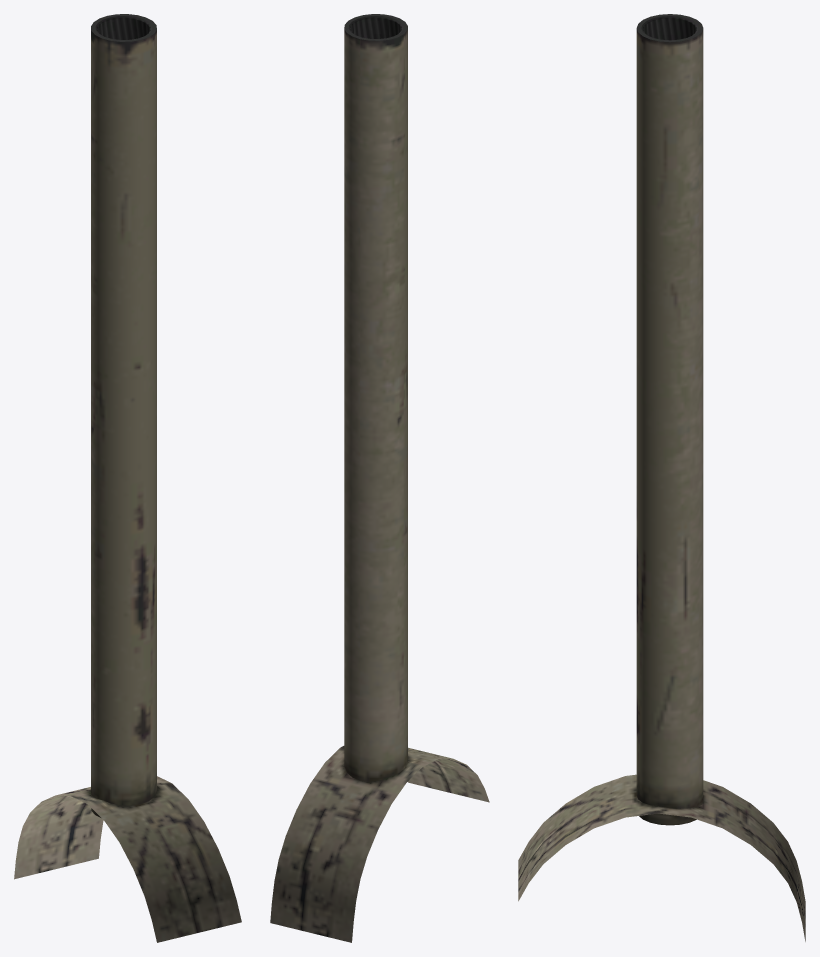
The model's file is Gun_02.glb.
3 views of the same model, side by side, from view 1: azimuth 30°, elevation 25°; view 2: azimuth 150°, elevation 25°; view 3: azimuth 270°, elevation 25° (orthographic). The views are drawn at different scales.
Visible parts, largest first — view 1: set_0_group_0; view 2: set_0_group_0; view 3: set_0_group_0.
Part boxes in pixels (box(x1,y1,x2,y2)): set_0_group_0: box(14, 14, 241, 942); set_0_group_0: box(270, 14, 489, 942); set_0_group_0: box(518, 14, 805, 941).
Size of the model in its own units: 0.141 by 1.41 by 0.4114.
Materials: 1 (1 with a texture image).
